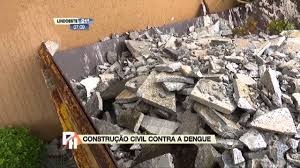rubble: (93, 41, 300, 154)
